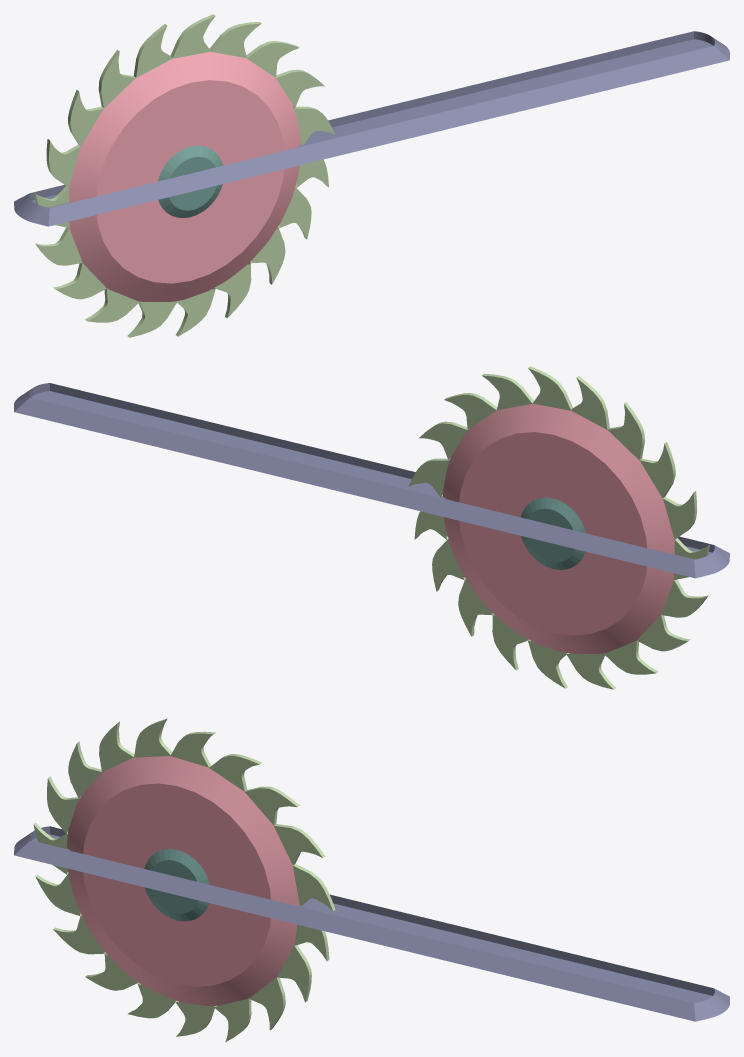
Rendered from Saw.fbx.
The picture shows the model from 3 angles, top to bottom: view 1: azimuth 30°, elevation 25°; view 2: azimuth 150°, elevation 25°; view 3: azimuth 330°, elevation 25°; orthographic projection.
Parts seen in each view (by area): view 1: Saw, Saw_Base; view 2: Saw, Saw_Base; view 3: Saw, Saw_Base.
Part boxes in pixels (bbox=[...]): Saw: bbox=[33, 14, 334, 337]; Saw_Base: bbox=[14, 31, 729, 226]; Saw: bbox=[408, 366, 710, 689]; Saw_Base: bbox=[14, 383, 729, 578]; Saw: bbox=[33, 718, 335, 1042]; Saw_Base: bbox=[14, 826, 729, 1021].
Bounding box in the file's own units: 599 × 255 × 50.66.
